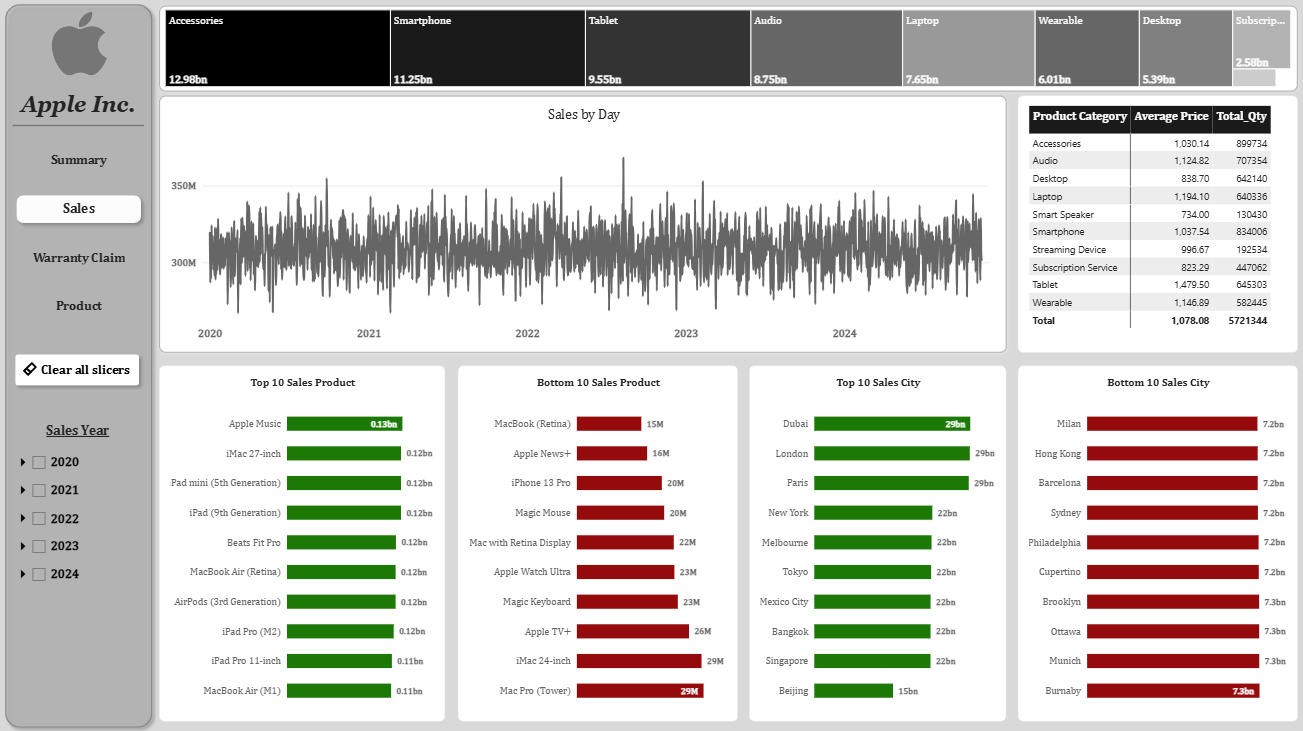

The dashboard page shown, as its layout file describes it:
{"tool":"powerbi","page":{"name":"Sales","canvas":[1920,1080],"ordinal":1},"visuals":[{"type":"shape","box":[0,0,234,1080],"z":0,"group":"g2"},{"type":"lineChart","title":"Sales by Day","fields":{"Category":["sales.sale_date"],"Y":["Calcule_KPI.Total_Sales"]},"box":[234.8,143.1,1243.6,377.9],"z":0},{"type":"treemap","title":"Total Sold Qty by Product Category","fields":{"Group":["category.category_name"],"Values":["Calcule_KPI.Total_Sales"]},"box":[234.8,11,1671,126.6],"z":1000},{"type":"image","box":[55,18.3,124,106],"z":1000,"group":"g1"},{"type":"textbox","box":[20,138,192,50],"z":2000,"group":"g2"},{"type":"barChart","title":"Top 10 Sales Product","fields":{"Category":["products.Product_Name"],"Y":["Calcule_KPI.Total_Sales"]},"box":[234.8,539.3,420,522.8],"z":2000},{"type":"shape","box":[20.2,179.8,192.6,14.7],"z":3000},{"type":"group","id":"g1","title":"Group 1","box":[0,0,234,1080],"z":4000},{"type":"slicer","title":"Sales Year","fields":{"Values":["Calender_Table.Sales_Date.Variation.Date Hierarchy.Year","Calender_Table.Sales_Date.Variation.Date Hierarchy.Quarter","Calender_Table.Sales_Date.Variation.Date Hierarchy.Month","Calender_Table.Sales_Date.Variation.Date Hierarchy.Day"]},"box":[14.7,621.8,201.8,258.6],"z":5000},{"type":"barChart","title":"Bottom 10 Sales Product","fields":{"Category":["products.Product_Name"],"Y":["Calcule_KPI.Total_Sales"]},"box":[673.2,539.3,410.9,522.8],"z":6000},{"type":"barChart","title":"Top 10 Sales City","fields":{"Category":["stores.City"],"Y":["Calcule_KPI.Total_Sales"]},"box":[1100.5,539.3,377.9,522.8],"z":7000},{"type":"barChart","title":"Bottom 10 Sales City","fields":{"Category":["stores.City"],"Y":["Calcule_KPI.Total_Sales"]},"box":[1494.9,539.3,410.9,522.8],"z":8000},{"type":"pivotTable","fields":{"Rows":["category.category_name"],"Values":["Calcule_KPI.Average_Price","Calcule_KPI.Total_Qty"]},"box":[1494.9,143.1,410.9,377.9],"z":8001},{"type":"pageNavigator","box":[16.5,209.1,201.8,273.3],"z":8002},{"type":"actionButton","box":[14.7,513.6,199.9,64.2],"z":8003},{"type":"group","id":"g2","title":"Group 2","box":[0,0,234,1080],"z":9001,"group":"g1"}]}

Visuals, with their boxes in screenshot pixels (x1, y1, x2, y2), scaled from the page's 1920x1080 canvas onto the 1303x731 screenshot:
shape: Rect(0, 0, 159, 730)
"Sales by Day" lineChart: Rect(159, 97, 1003, 353)
"Total Sold Qty by Product Category" treemap: Rect(159, 7, 1293, 93)
image: Rect(37, 12, 121, 84)
textbox: Rect(14, 93, 144, 127)
"Top 10 Sales Product" barChart: Rect(159, 365, 444, 719)
shape: Rect(14, 122, 144, 132)
"Group 1" group: Rect(0, 0, 159, 730)
"Sales Year" slicer: Rect(10, 421, 147, 596)
"Bottom 10 Sales Product" barChart: Rect(457, 365, 736, 719)
"Top 10 Sales City" barChart: Rect(747, 365, 1003, 719)
"Bottom 10 Sales City" barChart: Rect(1015, 365, 1293, 719)
pivotTable - category.category_name x Calcule_KPI.Average_Price: Rect(1015, 97, 1293, 353)
pageNavigator: Rect(11, 142, 148, 327)
actionButton: Rect(10, 348, 146, 391)
"Group 2" group: Rect(0, 0, 159, 730)
